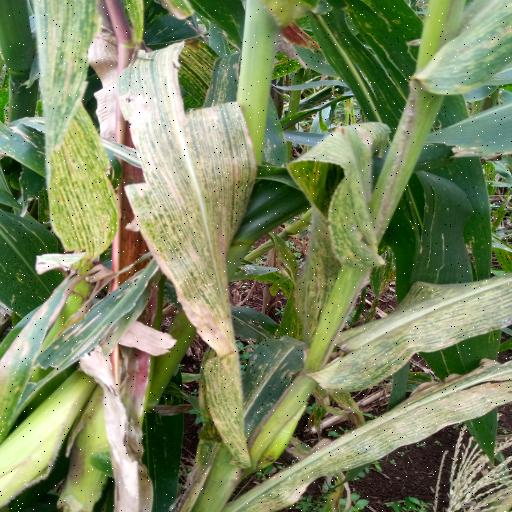Corn_Streak: (128, 42, 251, 468), (236, 360, 512, 512), (21, 0, 129, 266), (314, 272, 512, 401)
